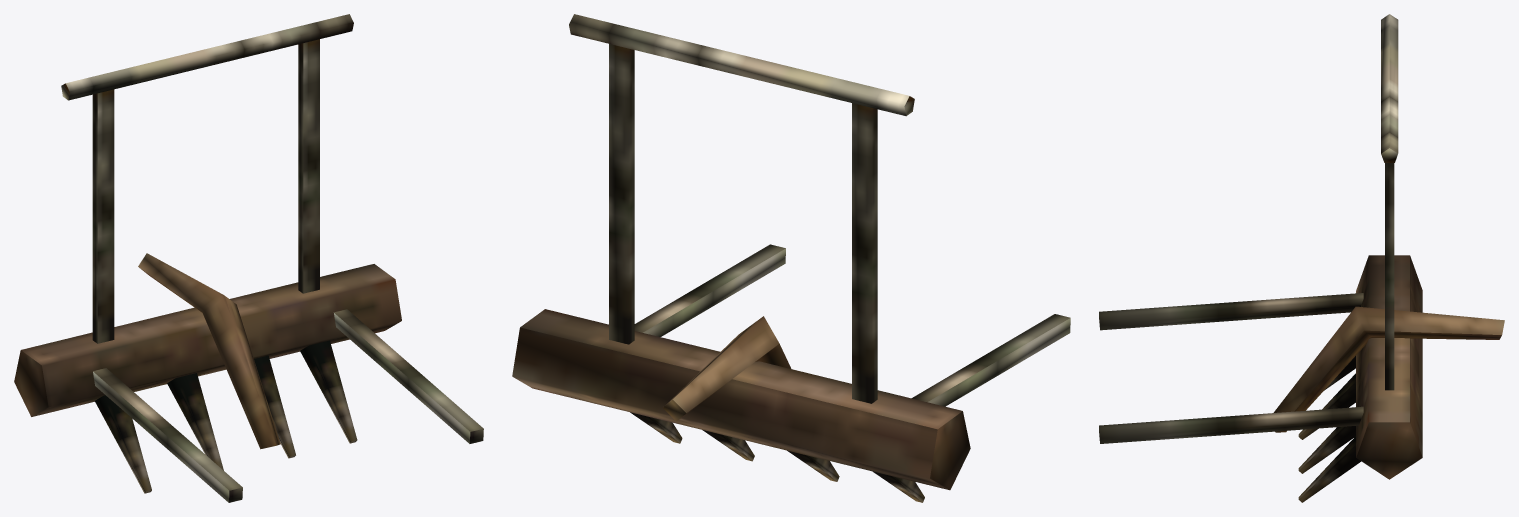
Rendered from b_general_obj_11.glb.
3 renders of one model, left to right at view 1: azimuth 30°, elevation 25°; view 2: azimuth 150°, elevation 25°; view 3: azimuth 270°, elevation 25°, orthographic. The views are drawn at different scales.
Visible parts, largest first — view 1: Object07; view 2: Object07; view 3: Object07.
Part boxes in pixels (x1,y1,x2,y2): Object07: [14, 14, 483, 502]; Object07: [512, 14, 1070, 502]; Object07: [1099, 14, 1504, 502].
Bounding box in the file's own units: 1.39 × 1.45 × 1.43.
1 material, 1 textured.
